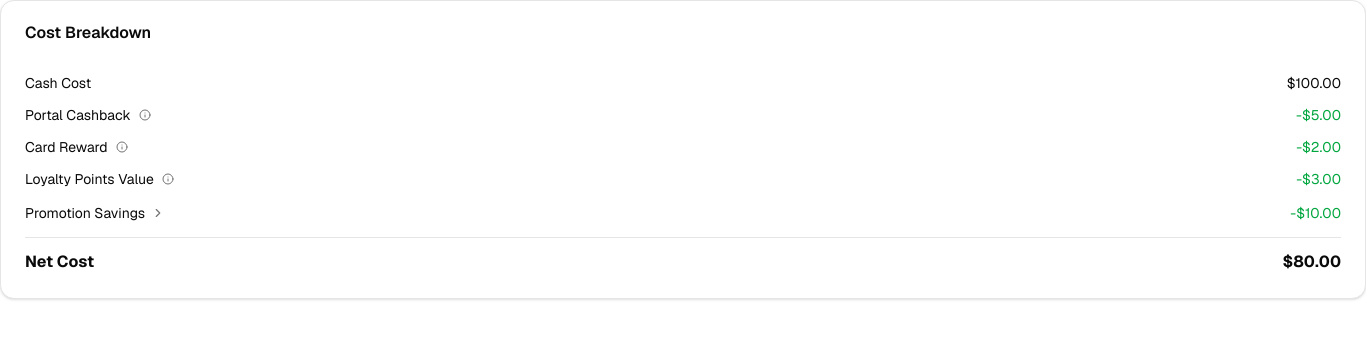
it: CostBreakdown › should toggle promotion details
Expected: the text "Promo 1" is not shown
# Click to expand
Click the button "Promotion Savings -$10.00" at x=85, y=213, box [25,201,1341,225]
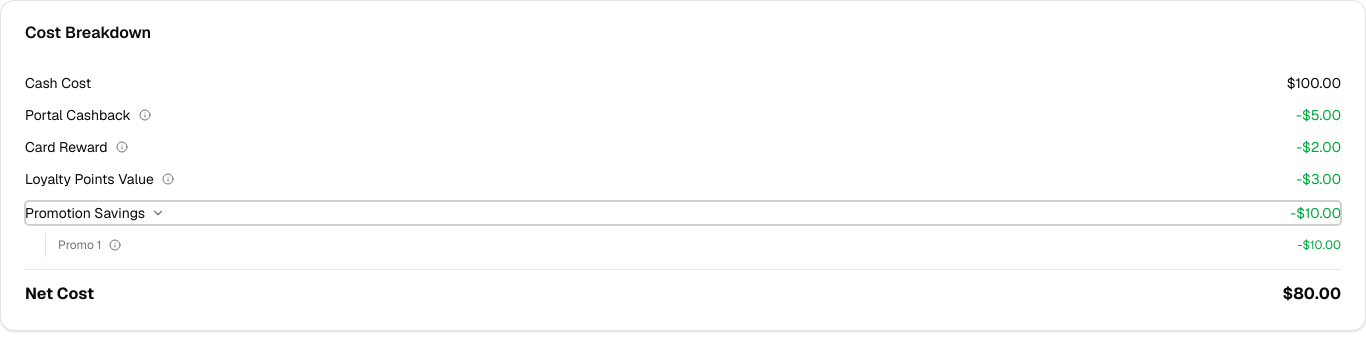
Expected: the text "Promo 1" is shown, [58,237,101,253]
# Click to collapse
Click the button "Promotion Savings -$10.00" at x=85, y=213, box [25,201,1341,225]
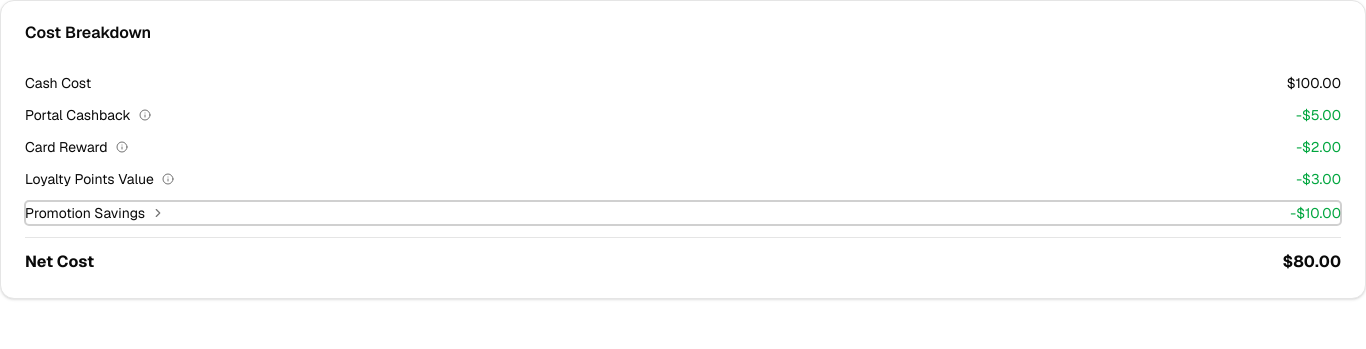
Expected: the text "Promo 1" is gone
